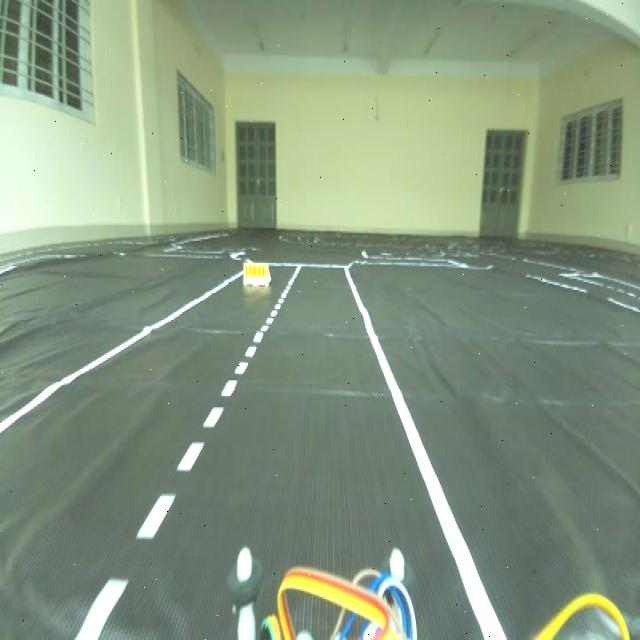roadblock: (240, 251, 273, 289)
